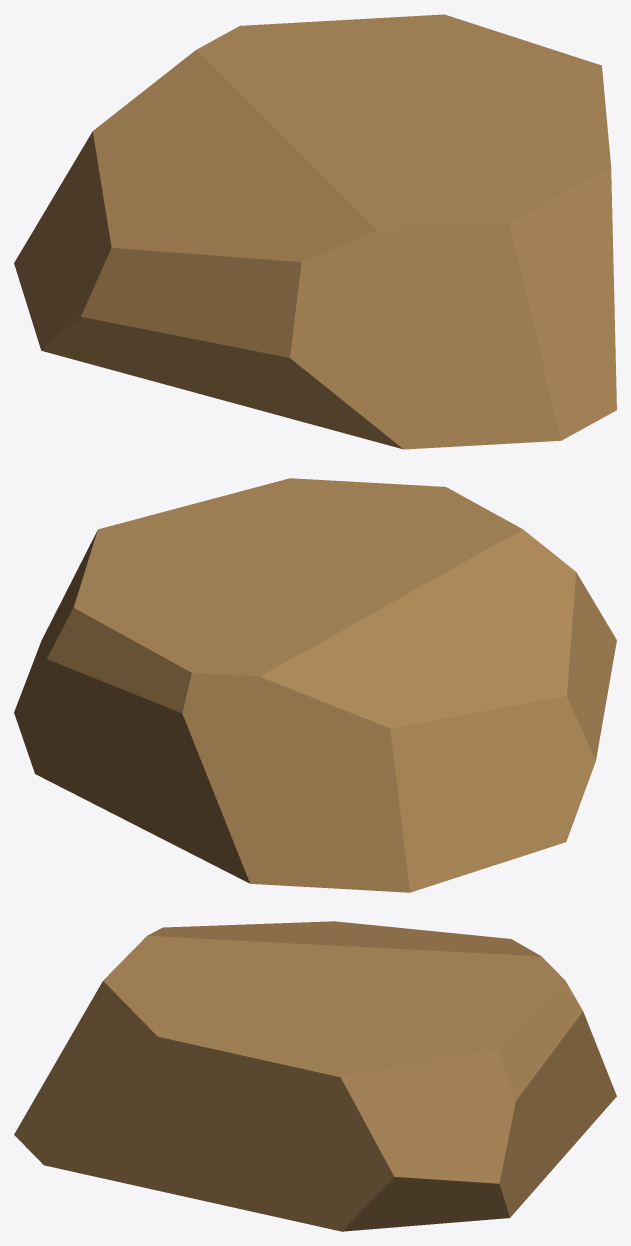
The model's file is roca11.fbx.
3 renders of one model, top to bottom at view 1: azimuth 30°, elevation 25°; view 2: azimuth 150°, elevation 25°; view 3: azimuth 270°, elevation 25°, orthographic. The views are drawn at different scales.
Visible parts, largest first — view 1: small_rock_02_Cylinder_001; view 2: small_rock_02_Cylinder_001; view 3: small_rock_02_Cylinder_001.
Part boxes in pixels (box(x1,y1,x2,y2)): small_rock_02_Cylinder_001: box(14, 14, 616, 449); small_rock_02_Cylinder_001: box(14, 478, 616, 892); small_rock_02_Cylinder_001: box(14, 921, 616, 1231).
Bounding box in the file's own units: 120 × 36.93 × 131.
